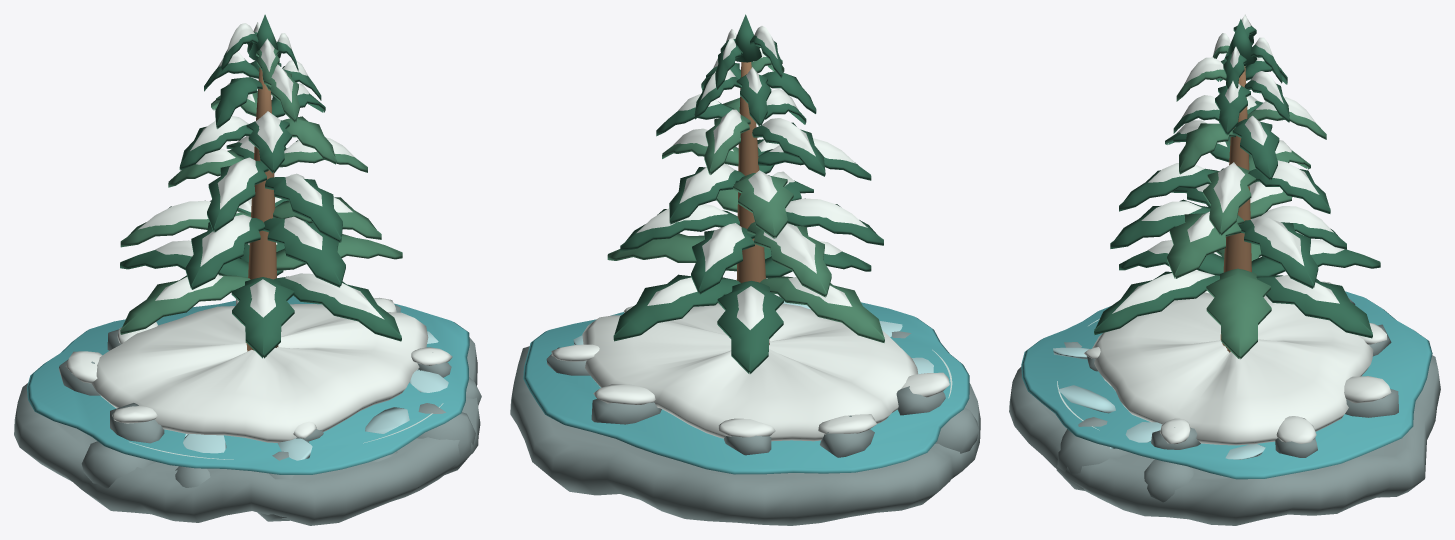
File: snowy-island-v5.glb
The picture shows the model from 3 angles, left to right: view 1: azimuth 30°, elevation 25°; view 2: azimuth 150°, elevation 25°; view 3: azimuth 270°, elevation 25°; orthographic projection.
Parts seen in each view (by area): view 1: Snowy | Snow | soft, Snowy | Rock | blue grey, Snowy | Pine | needles, Snowy | Sea | icy turquoise, Snowy | Pine | sunlit needles, Snowy | Ice | pale blue, Snowy | Pine | bark; view 2: Snowy | Snow | soft, Snowy | Rock | blue grey, Snowy | Pine | needles, Snowy | Sea | icy turquoise, Snowy | Pine | sunlit needles, Snowy | Pine | bark, Snowy | Ice | pale blue; view 3: Snowy | Snow | soft, Snowy | Rock | blue grey, Snowy | Pine | needles, Snowy | Sea | icy turquoise, Snowy | Pine | sunlit needles, Snowy | Ice | pale blue, Snowy | Pine | bark.
Part boxes in pixels (x1=…): Snowy | Snow | soft: x1=65, y1=22, x2=452, y2=442; Snowy | Rock | blue grey: x1=14, y1=304, x2=481, y2=525; Snowy | Pine | needles: x1=120, y1=14, x2=401, y2=358; Snowy | Sea | icy turquoise: x1=27, y1=295, x2=469, y2=474; Snowy | Pine | sunlit needles: x1=120, y1=48, x2=402, y2=334; Snowy | Ice | pale blue: x1=183, y1=331, x2=448, y2=460; Snowy | Pine | bark: x1=245, y1=67, x2=278, y2=356; Snowy | Snow | soft: x1=551, y1=26, x2=949, y2=441; Snowy | Rock | blue grey: x1=510, y1=331, x2=980, y2=525; Snowy | Pine | needles: x1=613, y1=14, x2=883, y2=373; Snowy | Sea | icy turquoise: x1=523, y1=302, x2=969, y2=474; Snowy | Pine | sunlit needles: x1=607, y1=47, x2=884, y2=342; Snowy | Pine | bark: x1=736, y1=62, x2=769, y2=344; Snowy | Ice | pale blue: x1=573, y1=296, x2=933, y2=374; Snowy | Snow | soft: x1=1084, y1=14, x2=1391, y2=445; Snowy | Rock | blue grey: x1=1009, y1=298, x2=1440, y2=525; Snowy | Pine | needles: x1=1094, y1=19, x2=1380, y2=338; Snowy | Sea | icy turquoise: x1=1021, y1=291, x2=1432, y2=479; Snowy | Pine | sunlit needles: x1=1167, y1=45, x2=1326, y2=359; Snowy | Ice | pale blue: x1=1053, y1=347, x2=1265, y2=459; Snowy | Pine | bark: x1=1220, y1=66, x2=1251, y2=352.
Bounding box in the file's own units: 1.64 × 1.6 × 1.44.
